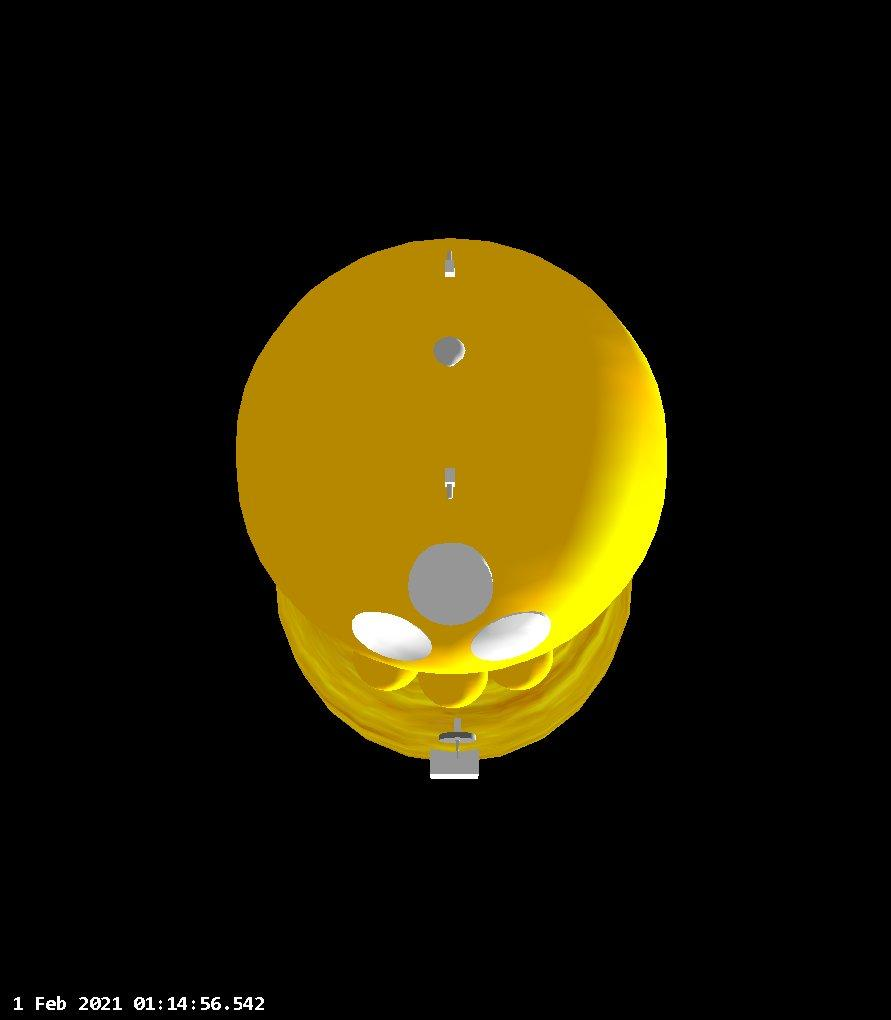antenna: (406, 541, 494, 626), (351, 608, 434, 663), (467, 611, 554, 662), (436, 712, 479, 762), (434, 334, 466, 369)
body: (230, 232, 671, 765)
